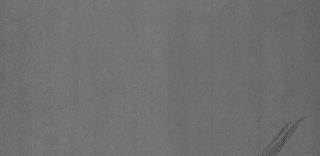water spot: (258, 114, 312, 156)
